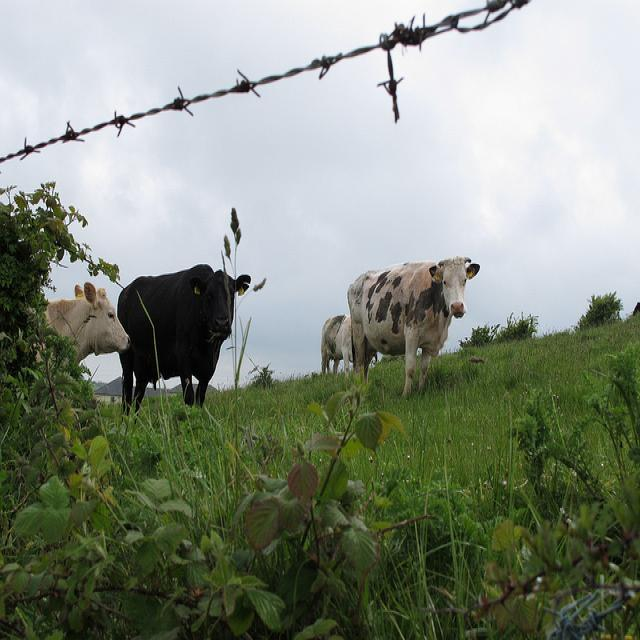cow: (117, 263, 251, 416), (346, 255, 479, 395), (30, 281, 129, 367), (319, 312, 352, 379)
